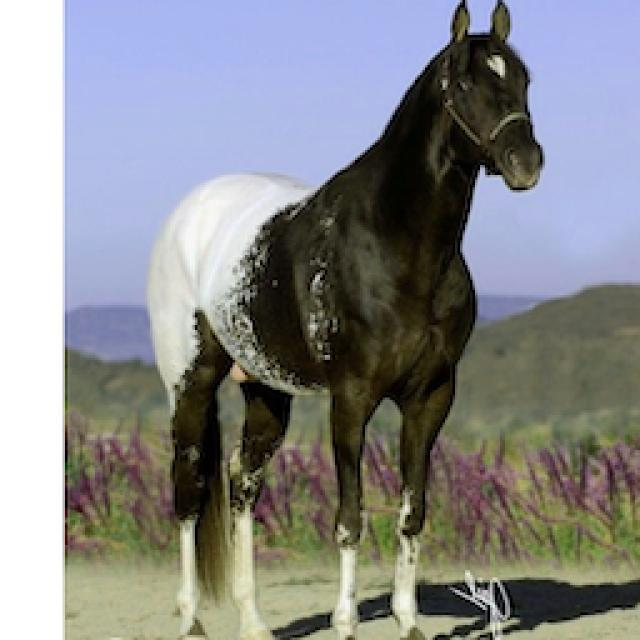Horse: (138, 0, 552, 638)
